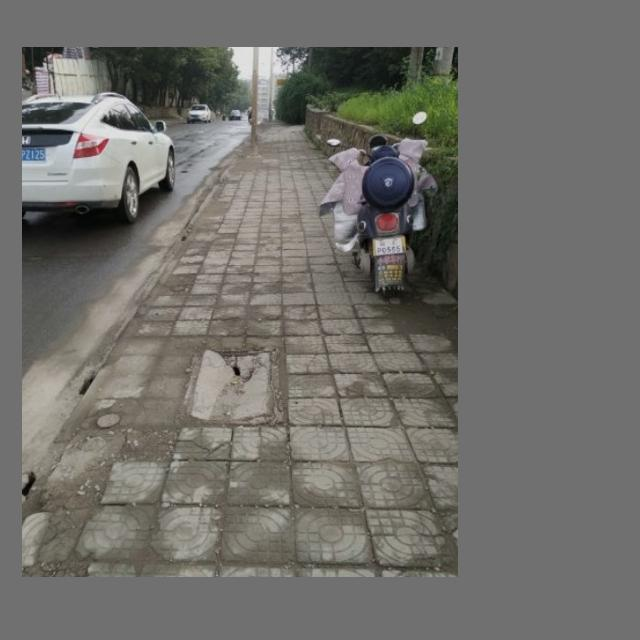broke: (183, 345, 284, 423)
